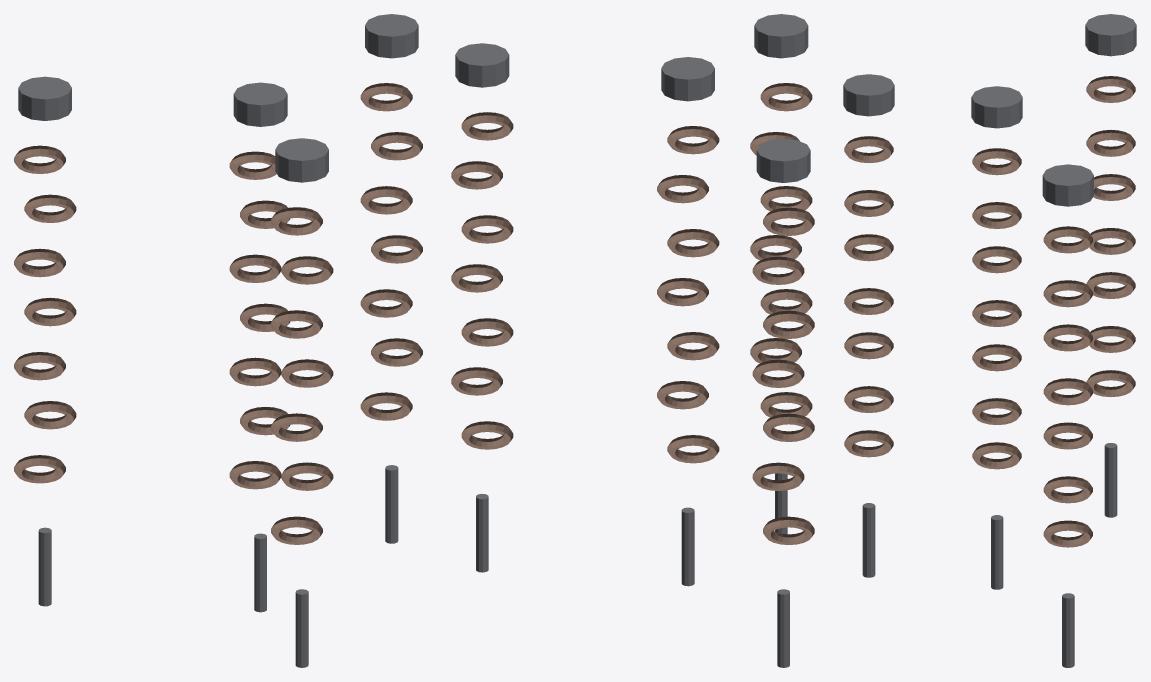
Rendered from ChainCluster_CeilingHooks.glb.
3 views of the same model, side by side, from view 1: azimuth 30°, elevation 25°; view 2: azimuth 150°, elevation 25°; view 3: azimuth 270°, elevation 25° (orthographic). The views are drawn at different scales.
Parts seen in each view (by area): view 1: HookBase_1, HookBase_2, HookBase_3, HookBase_0, Link_2_5, Tip_0, Link_3_2, Tip_2, Tip_3, Link_2_2, Link_3_1, Link_3_3 (+24 smaller); view 2: HookBase_2, HookBase_3, HookBase_0, HookBase_1, Tip_1, Link_2_5, Link_2_2, Link_2_4, Link_2_0, Link_2_3, Link_2_6, Link_0_1 (+22 smaller); view 3: HookBase_2, HookBase_1, HookBase_3, HookBase_0, Tip_0, Tip_3, Link_0_0, Link_3_1, Link_3_3, Link_1_1, Link_1_2, Link_2_1 (+24 smaller).
Part boxes in pixels (x1,y1,x2,y2): HookBase_1: (233, 82, 287, 126); HookBase_2: (365, 14, 418, 58); HookBase_3: (275, 138, 328, 182); HookBase_0: (18, 76, 71, 120); Link_2_5: (371, 338, 422, 366); Tip_0: (38, 527, 51, 606); Link_3_2: (271, 310, 322, 338); Tip_2: (385, 465, 398, 543); Tip_3: (295, 589, 308, 667); Link_2_2: (360, 186, 412, 214); Link_3_1: (281, 256, 333, 284); Link_3_3: (281, 359, 333, 387); HookBase_2: (455, 43, 509, 87); HookBase_3: (754, 14, 808, 58); HookBase_0: (756, 138, 810, 182); HookBase_1: (661, 57, 714, 101); Tip_1: (681, 507, 694, 586); Link_2_5: (451, 367, 502, 395); Link_2_2: (461, 215, 513, 243); Link_2_4: (461, 318, 513, 346); Link_2_0: (461, 112, 513, 140); Link_2_3: (451, 264, 502, 292); Link_2_6: (461, 421, 513, 449); Link_0_1: (752, 256, 804, 284); HookBase_2: (1042, 164, 1093, 206); HookBase_1: (971, 86, 1022, 128); HookBase_3: (843, 74, 894, 116); HookBase_0: (1085, 14, 1136, 56); Tip_0: (1104, 443, 1117, 517); Tip_3: (862, 503, 875, 577); Link_0_0: (1086, 76, 1135, 102); Link_3_1: (844, 190, 893, 216); Link_3_3: (844, 288, 893, 314); Link_1_1: (972, 202, 1021, 228); Link_1_2: (972, 246, 1021, 273); Link_2_1: (1043, 280, 1092, 307).
Bounding box in the file's own units: 1.47 × 1.9 × 1.03.
